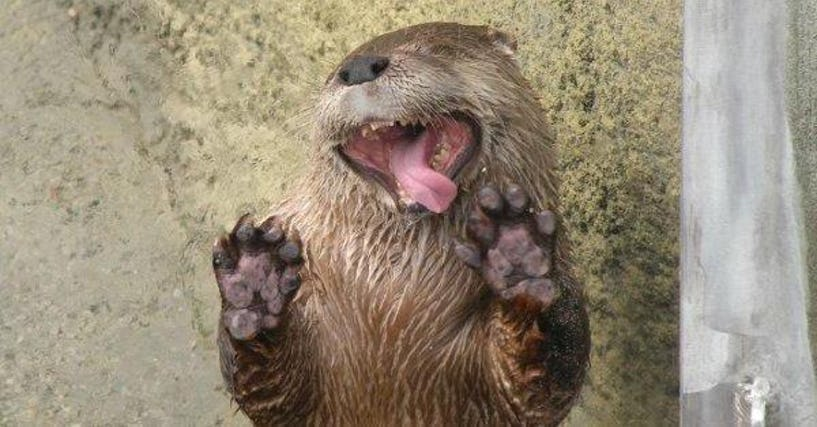otter: (192, 3, 586, 427)
